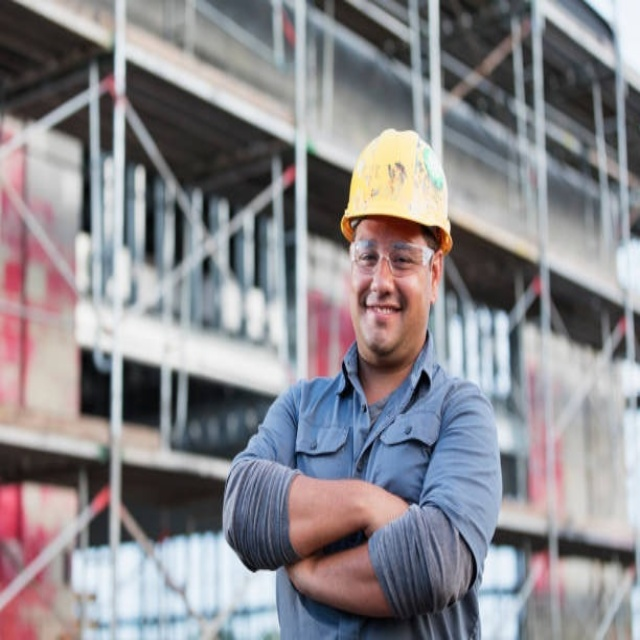Gafas: (349, 235, 431, 275)
Sin_mascara: (358, 287, 408, 345)
